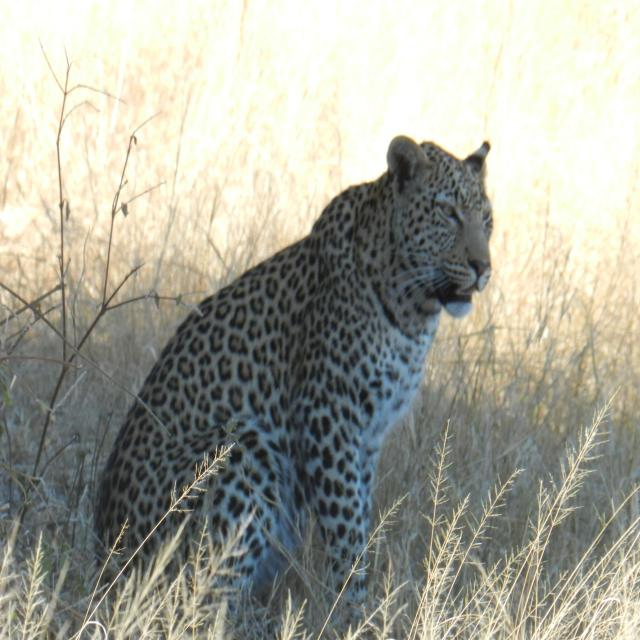Leopard: (83, 134, 530, 637)
